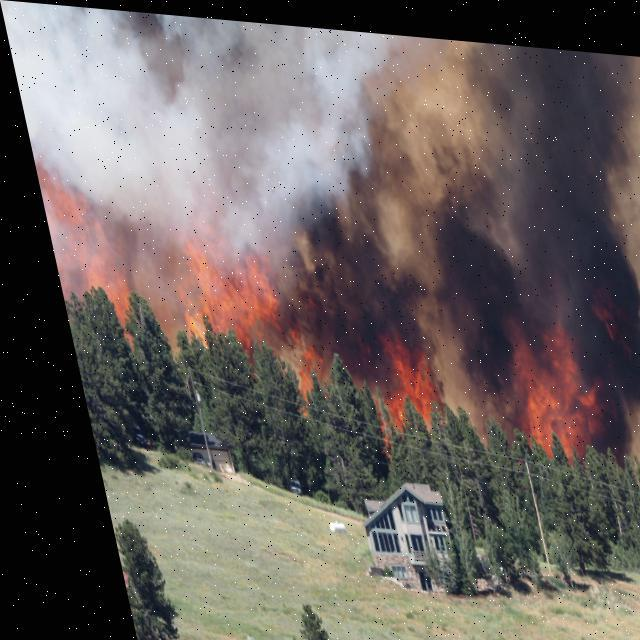Fire: (268, 269, 636, 454), (28, 159, 272, 345)
